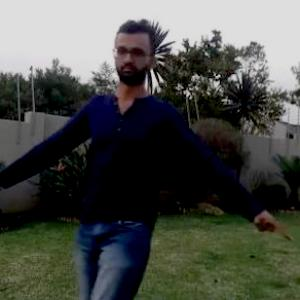land: (12, 48, 250, 289)
